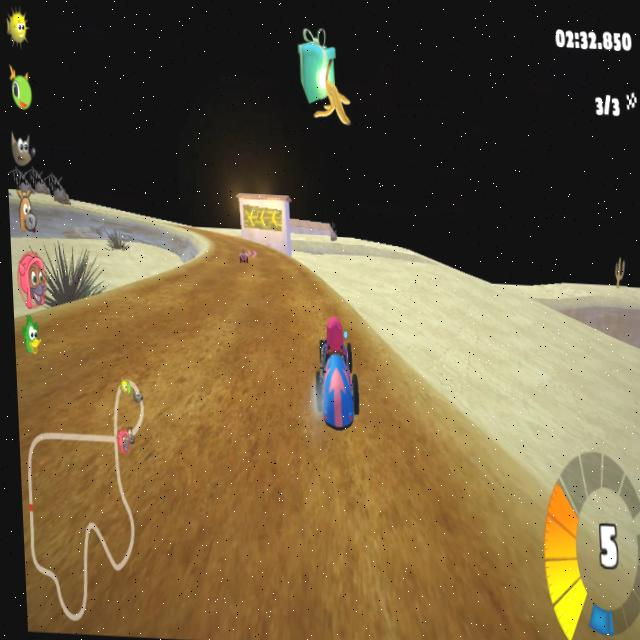enemy_kart: (234, 246, 248, 264)
player_kart: (308, 314, 364, 434)
track: (14, 319, 220, 640), (308, 433, 536, 640), (237, 260, 316, 640), (200, 227, 253, 640), (361, 368, 440, 436), (120, 283, 206, 326), (364, 326, 398, 361), (302, 277, 335, 308), (184, 264, 203, 287)
